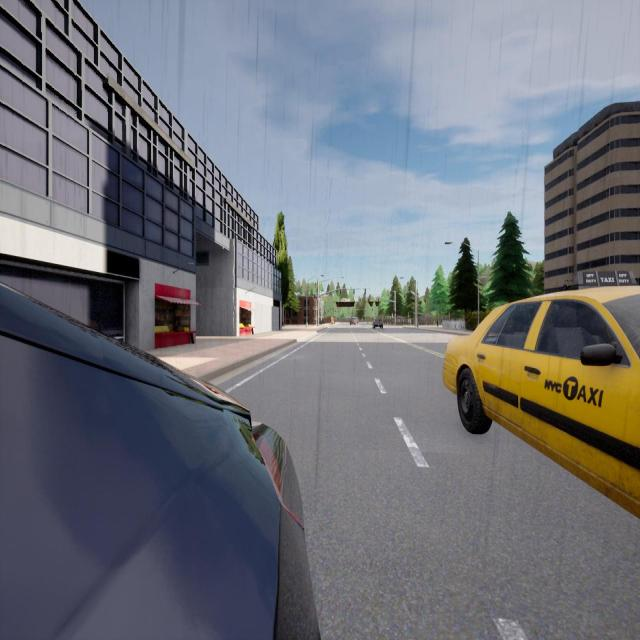Vehicle: (0, 278, 323, 640), (443, 286, 639, 517), (373, 318, 383, 329), (350, 318, 356, 326)
traffic_light: (365, 289, 366, 294), (404, 293, 405, 298), (395, 310, 396, 314), (378, 298, 379, 302), (368, 298, 369, 302), (340, 290, 341, 294), (360, 298, 360, 302), (354, 289, 354, 294)
